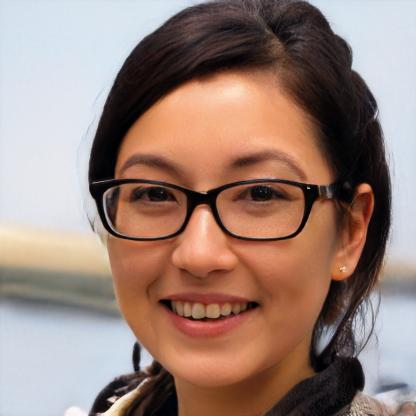glasses: (88, 172, 325, 250)
